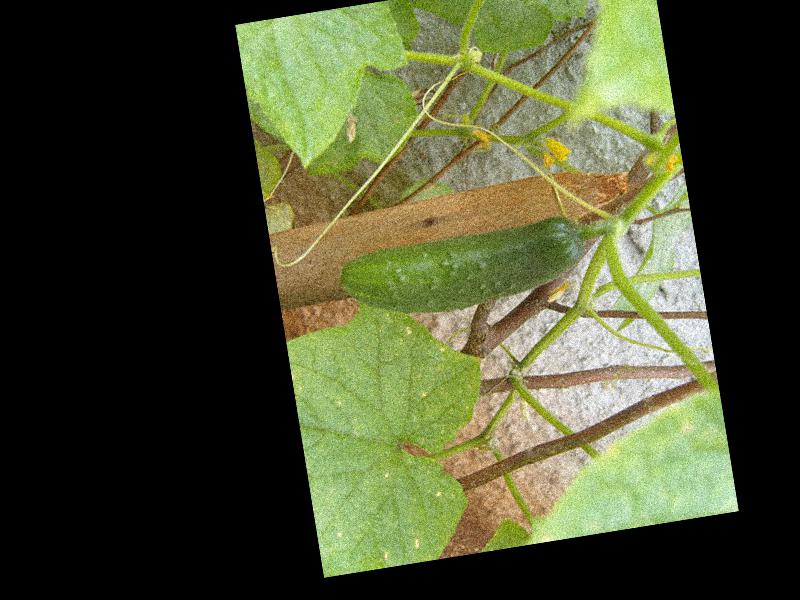Cucumber: (334, 211, 592, 327)
